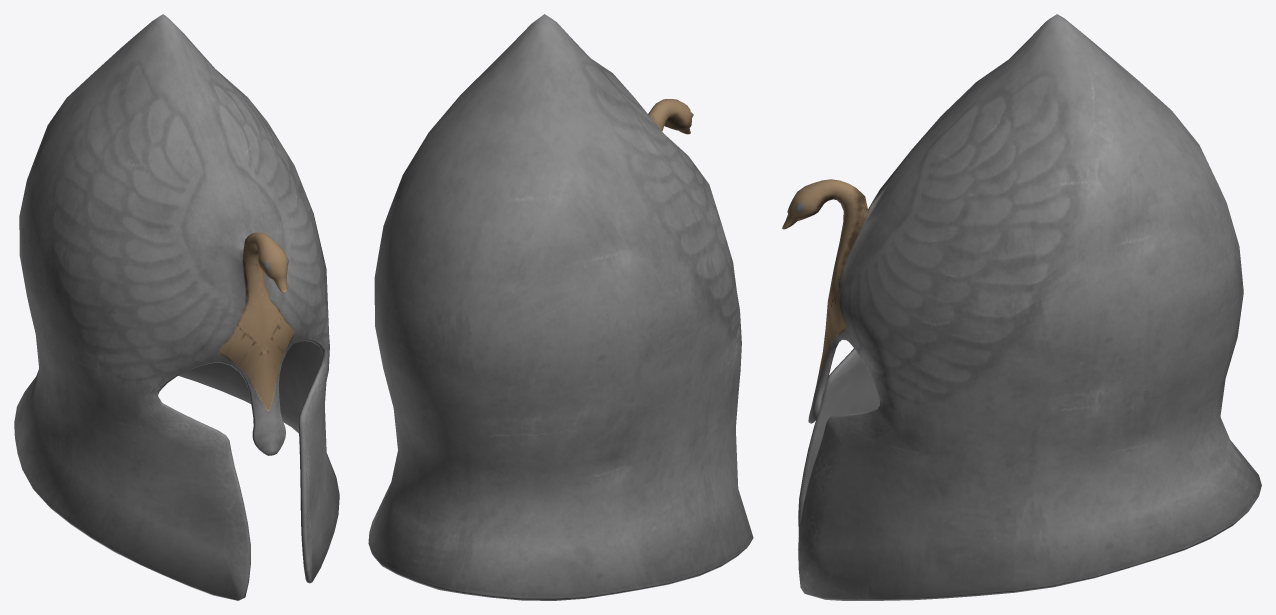
The model's file is dol_amroth_helmet_elite.fbx.
The picture shows the model from 3 angles, left to right: view 1: azimuth 30°, elevation 25°; view 2: azimuth 150°, elevation 25°; view 3: azimuth 270°, elevation 25°; orthographic projection. The views are drawn at different scales.
Visible parts, largest first — view 1: dol_amroth_helmet_elite; view 2: dol_amroth_helmet_elite; view 3: dol_amroth_helmet_elite.
Boxes of the visible parts, bbox=[...] form: dol_amroth_helmet_elite: bbox=[14, 14, 339, 600]; dol_amroth_helmet_elite: bbox=[368, 14, 753, 600]; dol_amroth_helmet_elite: bbox=[782, 14, 1261, 600].
Bounding box in the file's own units: 0.2087 × 0.2887 × 0.3724.
Materials: 1 (1 with a texture image).
